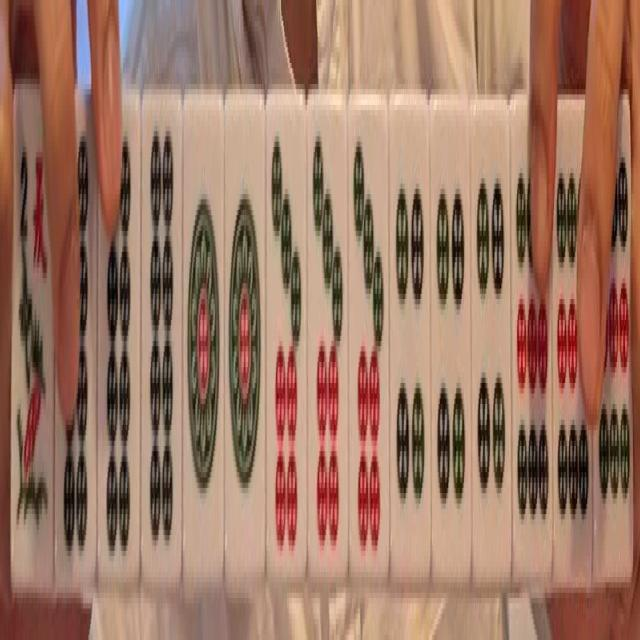1D: (184, 113, 223, 556), (226, 119, 264, 567)
2S: (15, 102, 52, 585)
4D: (391, 108, 430, 578), (432, 121, 469, 579), (471, 124, 508, 578)
7D: (308, 102, 346, 572), (268, 112, 306, 578), (350, 110, 388, 563)
8D: (100, 110, 139, 572), (56, 121, 95, 561), (142, 110, 179, 552)
9D: (595, 121, 631, 558), (555, 118, 590, 562), (514, 124, 550, 554)
